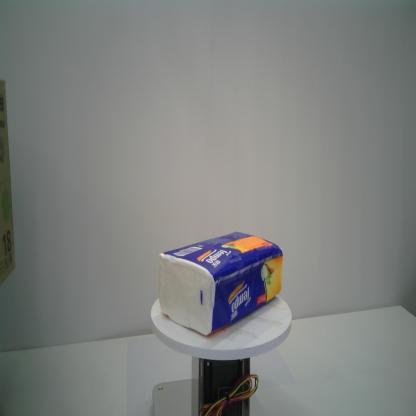Tissue: (156, 229, 284, 339)
